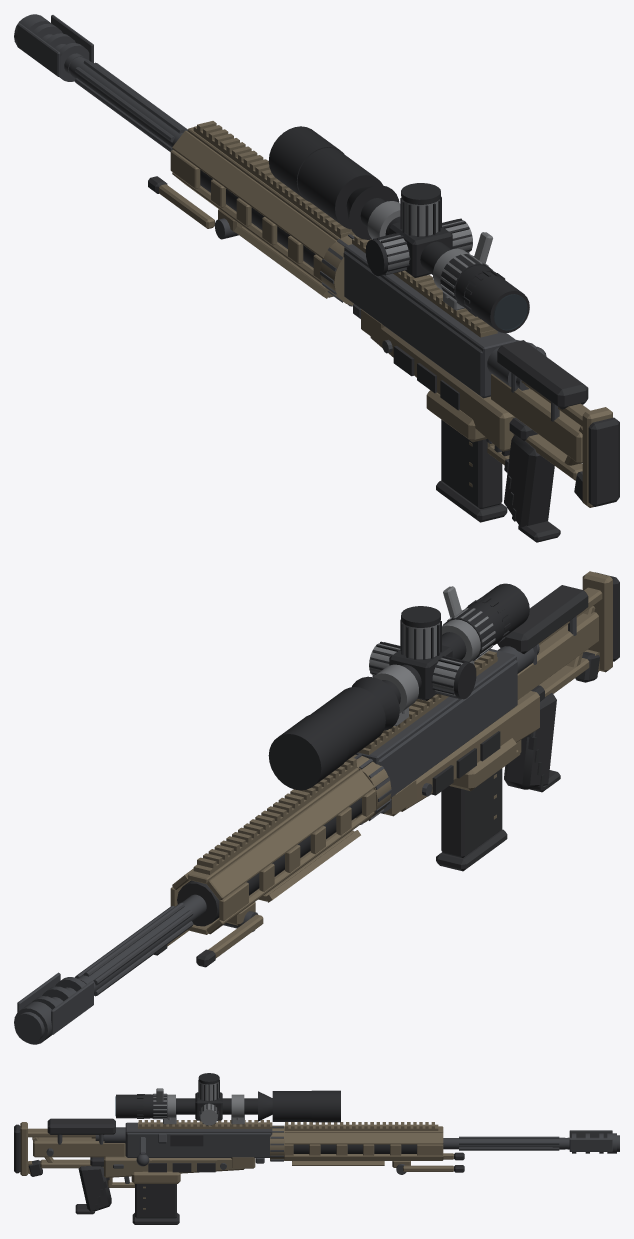
The model's file is sniper.glb.
3 views of the same model, one above another, from view 1: azimuth 30°, elevation 25°; view 2: azimuth 150°, elevation 25°; view 3: azimuth 270°, elevation 25° (orthographic). The views are drawn at different scales.
Parts seen in each view (by area): view 1: SNIPER_FDE, SNIPER_Steel, SNIPER_Polymer, SNIPER_Optic, SNIPER_Tungsten, SNIPER_Glass; view 2: SNIPER_FDE, SNIPER_Steel, SNIPER_Optic, SNIPER_Polymer, SNIPER_Tungsten; view 3: SNIPER_FDE, SNIPER_Steel, SNIPER_Polymer, SNIPER_Optic, SNIPER_Tungsten.
Boxes of the visible parts, box(x1,y1,x2,y2) form: SNIPER_FDE: box(159, 121, 612, 507); SNIPER_Steel: box(14, 14, 559, 452); SNIPER_Polymer: box(148, 170, 619, 542); SNIPER_Optic: box(268, 126, 529, 333); SNIPER_Tungsten: box(367, 199, 492, 310); SNIPER_Glass: box(493, 294, 527, 330); SNIPER_FDE: box(167, 571, 612, 958); SNIPER_Steel: box(14, 616, 576, 1044); SNIPER_Optic: box(268, 583, 529, 790); SNIPER_Polymer: box(154, 572, 619, 967); SNIPER_Tungsten: box(369, 586, 495, 726); SNIPER_FDE: box(20, 1120, 453, 1209); SNIPER_Steel: box(46, 1122, 619, 1183); SNIPER_Polymer: box(14, 1118, 464, 1224); SNIPER_Optic: box(116, 1073, 340, 1125); SNIPER_Tungsten: box(153, 1082, 244, 1125).
Size of the model in its own units: 0.1324 by 0.3265 by 1.24.
